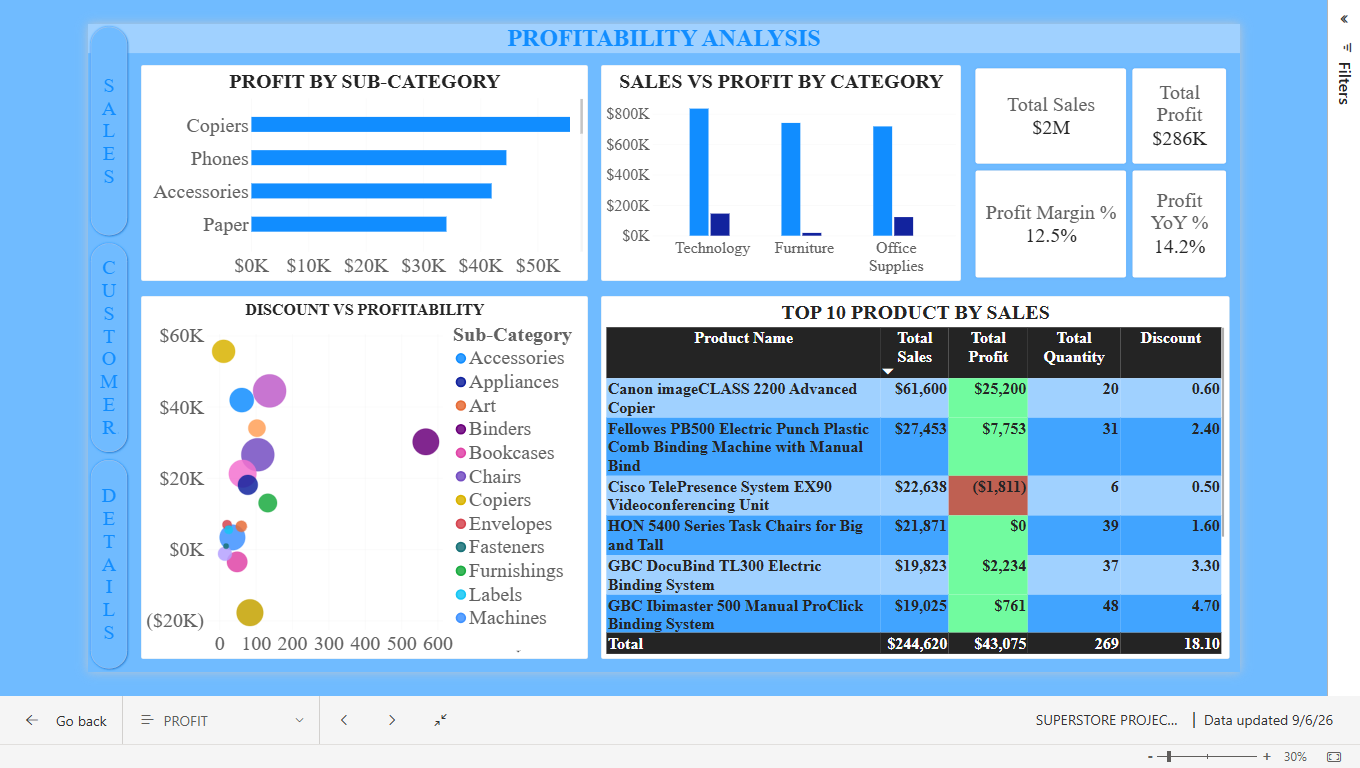

The dashboard page shown, as its layout file describes it:
{"tool":"powerbi","page":{"name":"PROFIT","canvas":[3840,2160],"ordinal":1},"visuals":[{"type":"textbox","box":[0,0,3840,96.5],"z":0},{"type":"clusteredBarChart","title":"PROFIT BY SUB-CATEGORY","fields":{"Category":["Sample - Superstore.Sub-Category"],"Y":["Date.Total Profit"]},"box":[175,135,1490,720],"z":1000},{"type":"scatterChart","title":"DISCOUNT VS PROFITABILITY","fields":{"Series":["Sample - Superstore.Sub-Category"],"Size":["Date.Total Sales"],"X":["Sum(Sample - Superstore.Discount)"],"Y":["Date.Total Profit"]},"box":[175,905,1490,1210],"z":2000},{"type":"lineClusteredColumnComboChart","title":"SALES VS PROFIT BY CATEGORY","fields":{"Category":["Sample - Superstore.Category"],"Y":["Date.Total Sales","Date.Total Profit"]},"box":[1710,135,1200,720],"z":3000},{"type":"tableEx","title":"TOP 10 PRODUCT BY SALES","fields":{"Values":["Sample - Superstore.Product Name","Date.Total Sales","Date.Total Profit","Date.Total Quantity","Sum(Sample - Superstore.Discount)"]},"box":[1710,905,2095,1210],"z":4000},{"type":"cardVisual","fields":{"Data":["Date.Total Sales"]},"box":[2945,135,525,340],"z":5000},{"type":"cardVisual","fields":{"Data":["Date.Total Profit"]},"box":[3470,135,335,340],"z":6000},{"type":"cardVisual","title":"Profit YoY%","fields":{"Data":["Date.Profit YoY %"]},"box":[3470,475,335,380],"z":7000},{"type":"cardVisual","fields":{"Data":["Date.Profit Margin %"]},"box":[2945,475,525,380],"z":8000},{"type":"pageNavigator","box":[0,0,140,2160],"z":9000}]}

Visuals, with their boxes on the page's 3840x2160 design canvas (x1, y1, x2, y2). These are canvas units, not pixel positions in the 1360x768 screenshot, which may show the page scaled, cropped or inside an application window:
textbox: bbox(0, 0, 3840, 96)
"PROFIT BY SUB-CATEGORY" clusteredBarChart: bbox(175, 135, 1665, 855)
"DISCOUNT VS PROFITABILITY" scatterChart: bbox(175, 905, 1665, 2115)
"SALES VS PROFIT BY CATEGORY" lineClusteredColumnComboChart: bbox(1710, 135, 2910, 855)
"TOP 10 PRODUCT BY SALES" tableEx: bbox(1710, 905, 3805, 2115)
cardVisual - Date.Total Sales: bbox(2945, 135, 3470, 475)
cardVisual - Date.Total Profit: bbox(3470, 135, 3805, 475)
"Profit YoY%" cardVisual: bbox(3470, 475, 3805, 855)
cardVisual - Date.Profit Margin %: bbox(2945, 475, 3470, 855)
pageNavigator: bbox(0, 0, 140, 2160)
